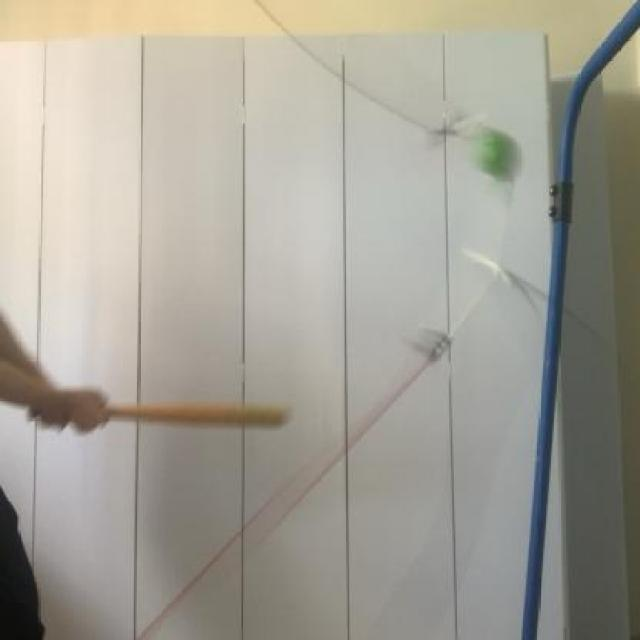baseball: (466, 115, 523, 196)
